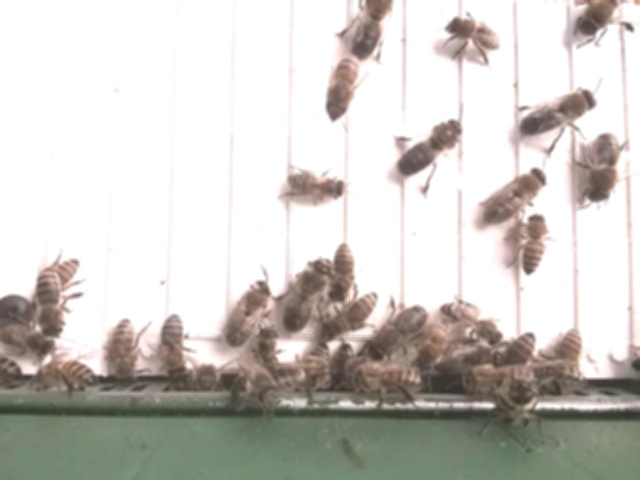Drone: (518, 86, 601, 140), (482, 165, 548, 225), (399, 117, 464, 177), (365, 302, 430, 362), (283, 256, 332, 333), (222, 277, 272, 348), (346, 0, 397, 59), (584, 129, 622, 204)
Worker: (441, 298, 502, 343), (323, 290, 382, 336), (34, 266, 67, 339), (444, 16, 505, 52), (327, 55, 361, 115), (518, 210, 549, 275), (352, 364, 426, 391), (0, 323, 58, 357), (288, 168, 348, 200), (110, 313, 139, 376), (161, 311, 190, 372), (32, 357, 95, 385), (550, 326, 586, 374), (500, 328, 538, 372), (330, 239, 358, 298)
